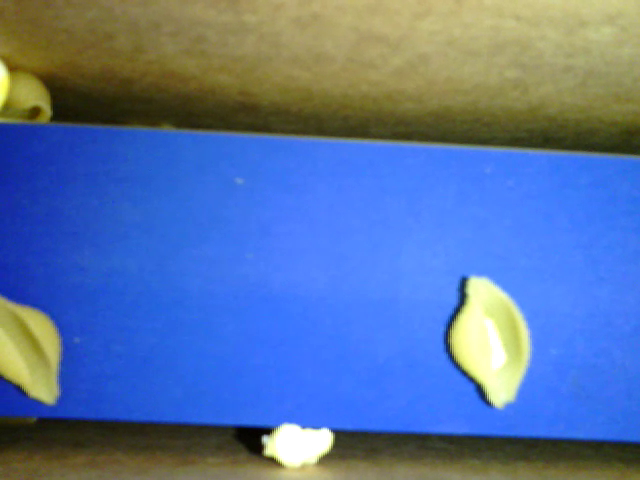shell: (444, 272, 531, 414), (2, 292, 66, 409), (1, 66, 54, 130)
